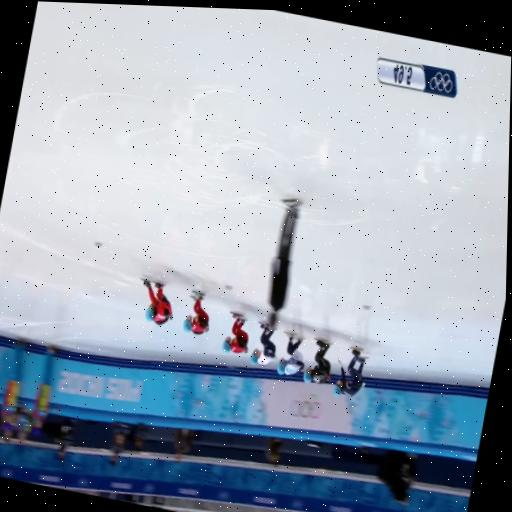Skater: (334, 348, 365, 395), (144, 280, 172, 323), (277, 332, 304, 374), (304, 339, 330, 382), (184, 291, 209, 334), (250, 323, 276, 364), (222, 313, 248, 353)
